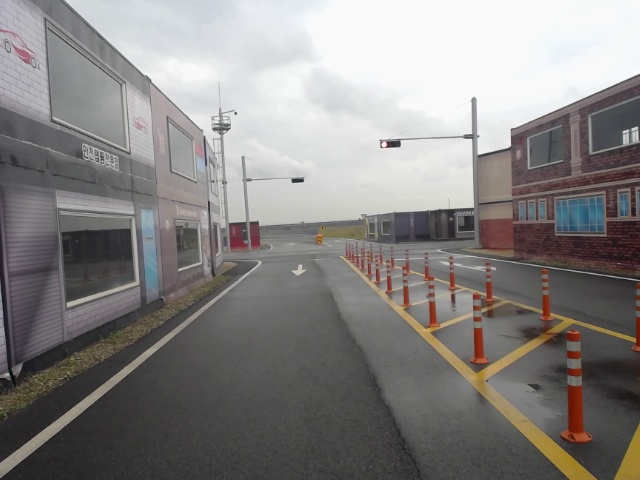red_3: (379, 138, 402, 148)
